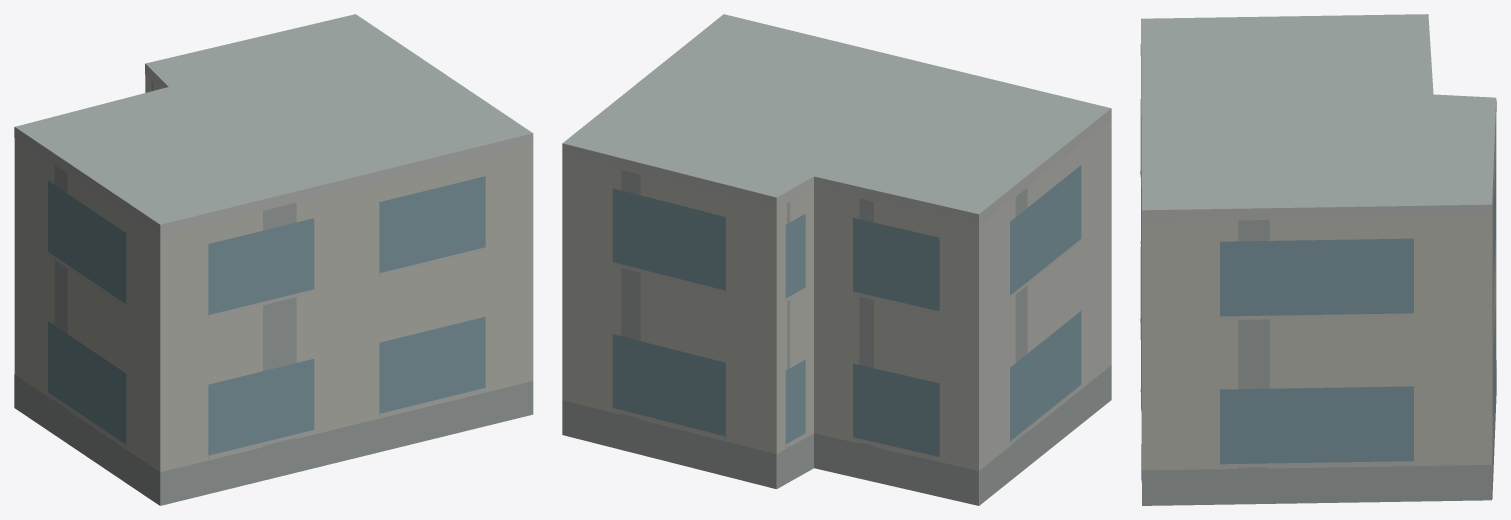
File: survey-upis-32874228.glb
The picture shows the model from 3 angles, left to right: view 1: azimuth 30°, elevation 25°; view 2: azimuth 150°, elevation 25°; view 3: azimuth 270°, elevation 25°; orthographic projection. The views are drawn at different scales.
Visible parts, largest first — view 1: survey-upis-32874228.tmp; view 2: survey-upis-32874228.tmp; view 3: survey-upis-32874228.tmp.
Boxes of the visible parts, x1,y1,x2,y2 form: survey-upis-32874228.tmp: (14,14,533,505); survey-upis-32874228.tmp: (562,14,1111,505); survey-upis-32874228.tmp: (1140,14,1496,505).
Size of the model in its own units: 8.69 by 6.1 by 6.66.
